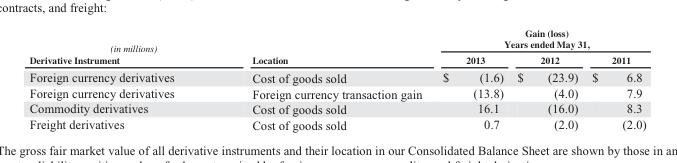table: (28, 28, 645, 131)
table column: (212, 28, 431, 131), (28, 28, 212, 131), (431, 28, 509, 131), (509, 28, 584, 131), (584, 28, 645, 131)
table column header: (28, 28, 645, 67)
table row: (28, 28, 645, 52), (28, 67, 645, 85), (28, 100, 645, 116), (28, 52, 645, 67), (28, 85, 645, 100), (28, 116, 645, 131)
table spanning cell: (212, 28, 431, 67), (28, 28, 212, 67), (431, 28, 645, 52)
